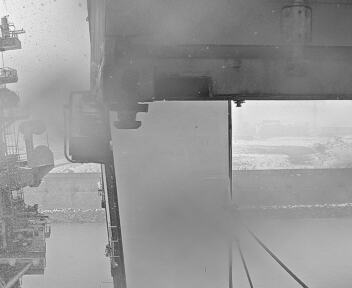twist_lock_1: (99, 96, 153, 135)
